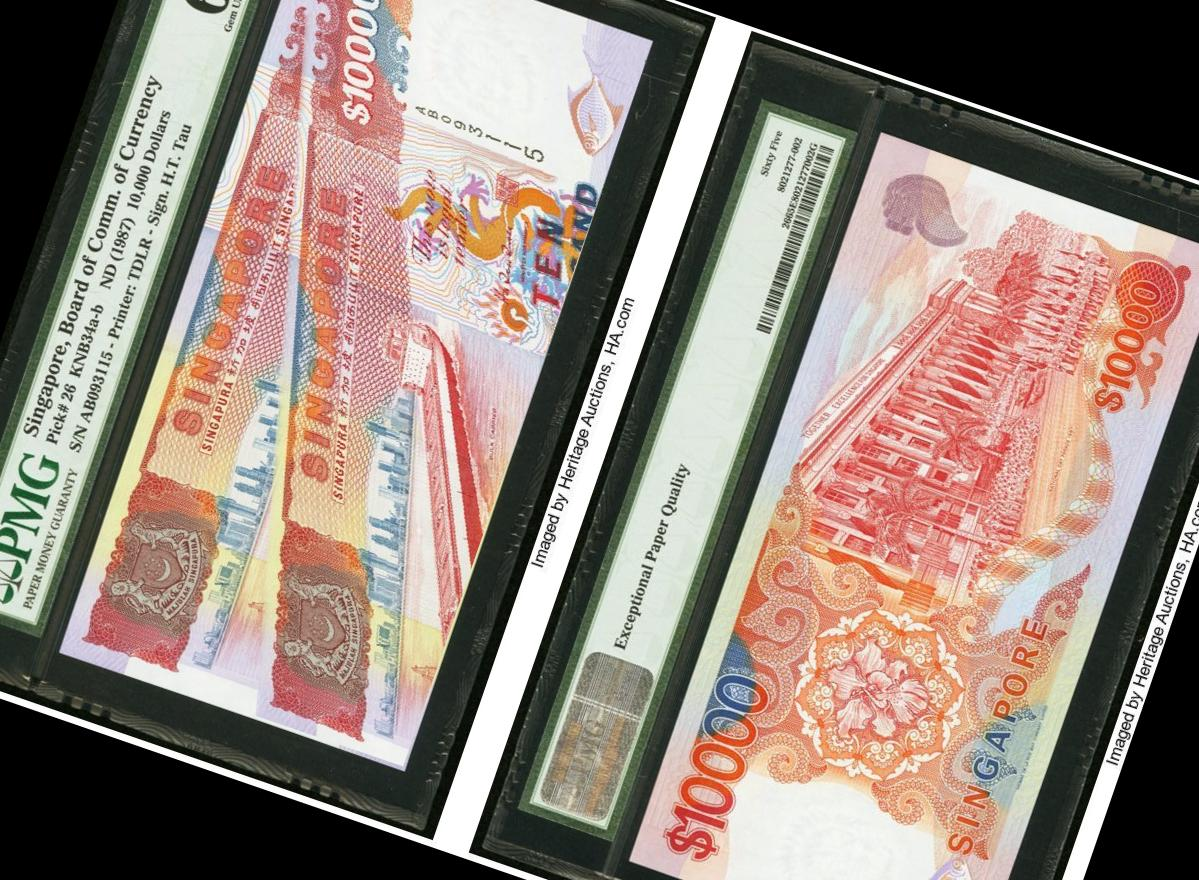10000SingaporeDollar: (62, 0, 652, 767)
